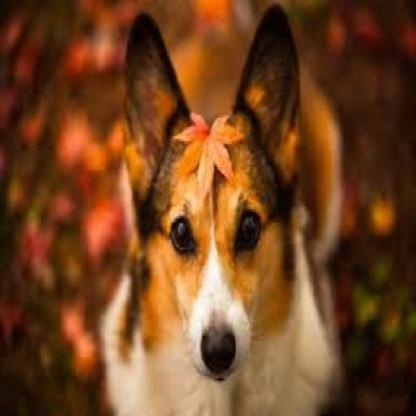dog: (100, 3, 347, 414)
